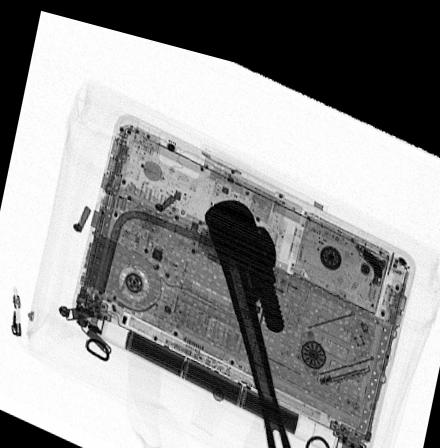Wrench: (202, 185, 291, 448)
